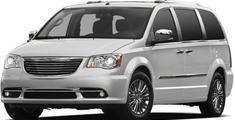front_view: (4, 50, 126, 103)
headlight: (88, 49, 124, 72)
side_glass: (154, 5, 206, 42)
